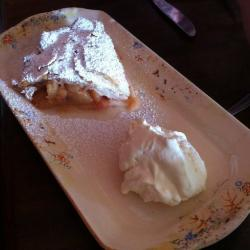apple_pie: (16, 24, 144, 119)
icecream: (111, 120, 209, 211)
